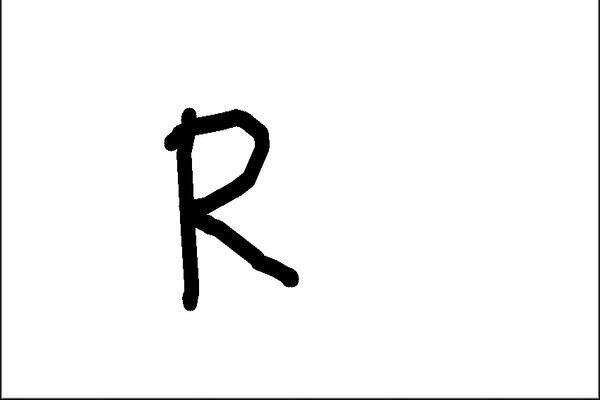R: (158, 104, 311, 315)
